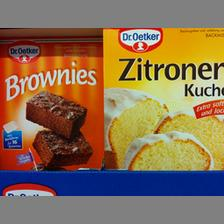Kuchen: (100, 27, 224, 169), (1, 34, 104, 170)
